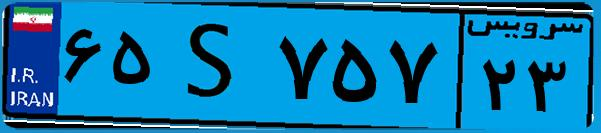2: (475, 38, 525, 113)
3: (525, 38, 570, 115)
5: (330, 28, 385, 110), (110, 28, 158, 98)
6: (57, 26, 110, 100)
7: (270, 28, 330, 110), (385, 28, 445, 110)
S: (158, 12, 270, 120)
